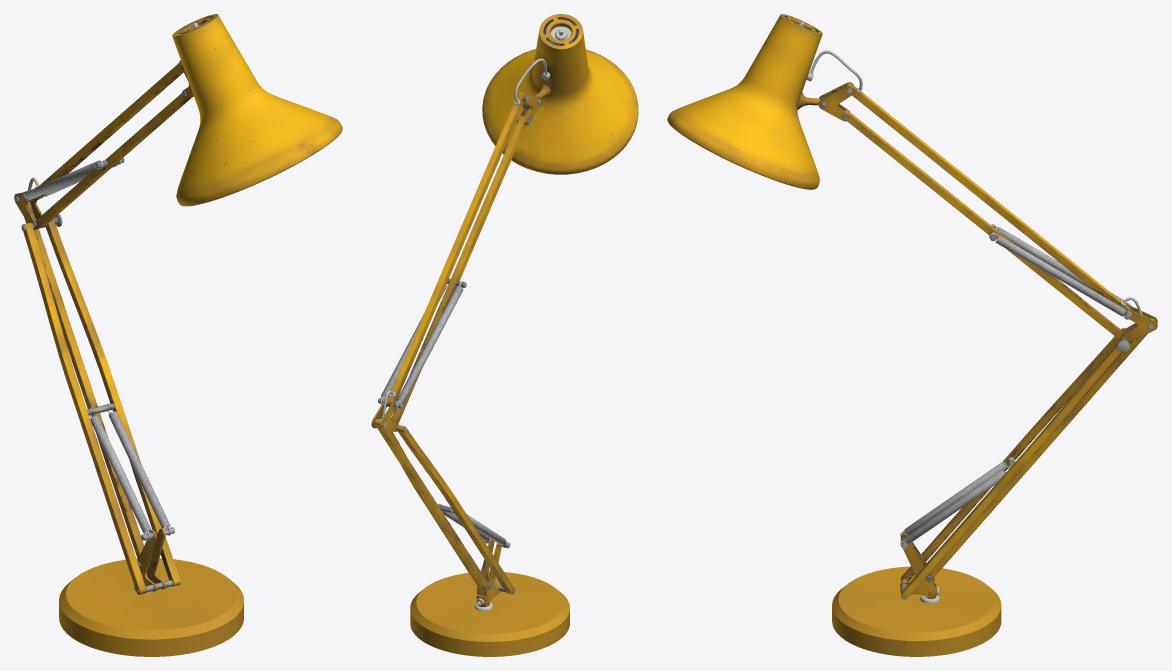
Rendered from luminaria.glb.
3 views of the same model, side by side, from view 1: azimuth 30°, elevation 25°; view 2: azimuth 150°, elevation 25°; view 3: azimuth 270°, elevation 25° (orthographic). The views are drawn at different scales.
Parts seen in each view (by area): view 1: desk_lamp_arm_01; view 2: desk_lamp_arm_01; view 3: desk_lamp_arm_01.
Part boxes in pixels (box(x1,y1,x2,y2)): desk_lamp_arm_01: box(14, 14, 342, 656); desk_lamp_arm_01: box(371, 14, 638, 656); desk_lamp_arm_01: box(667, 14, 1157, 656).
Bounding box in the file's own units: 0.1575 × 0.58 × 0.4307.
2 materials, 2 textured.
